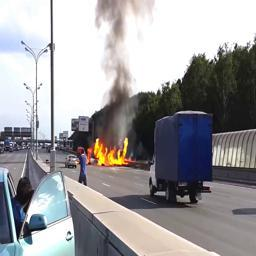fire: (93, 138, 135, 165)
